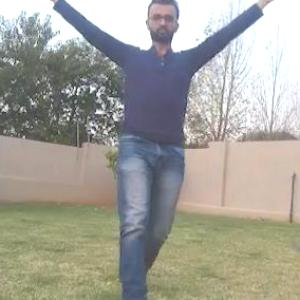takeoff: (55, 0, 266, 299)
